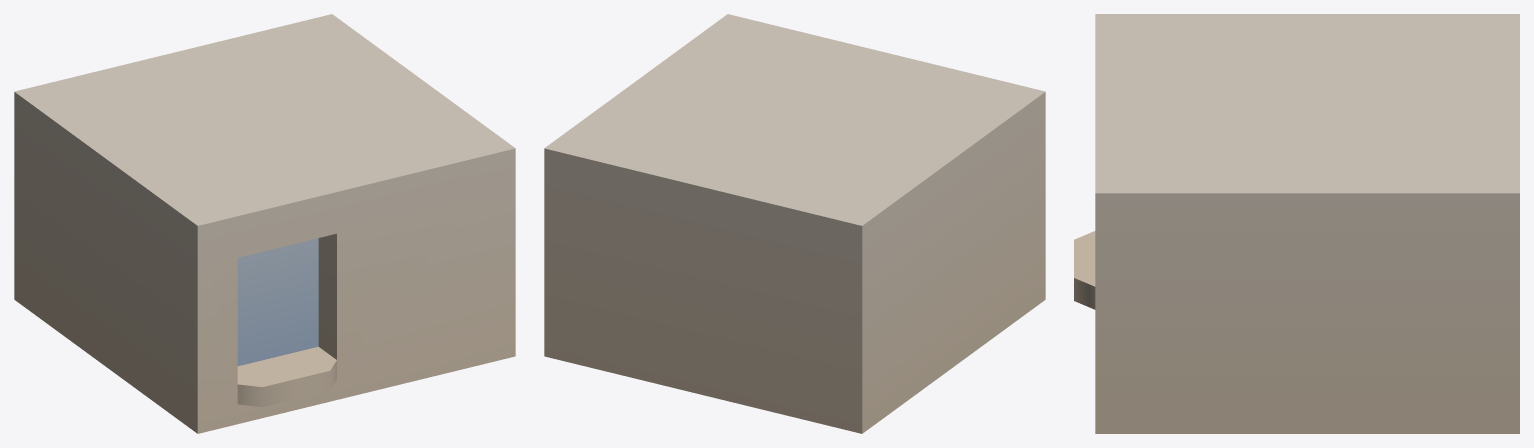
File: building-window-left-sill.glb
The picture shows the model from 3 angles, left to right: view 1: azimuth 30°, elevation 25°; view 2: azimuth 150°, elevation 25°; view 3: azimuth 270°, elevation 25°; orthographic projection. The views are drawn at different scales.
Visible parts, largest first — view 1: building-window-left-sill; view 2: building-window-left-sill; view 3: building-window-left-sill.
Part boxes in pixels (left/top/right/bottom): building-window-left-sill: left=14, top=14, right=515, bottom=433; building-window-left-sill: left=544, top=14, right=1045, bottom=433; building-window-left-sill: left=1074, top=14, right=1519, bottom=433.
Size of the model in its own units: 1 by 0.625 by 1.05.
